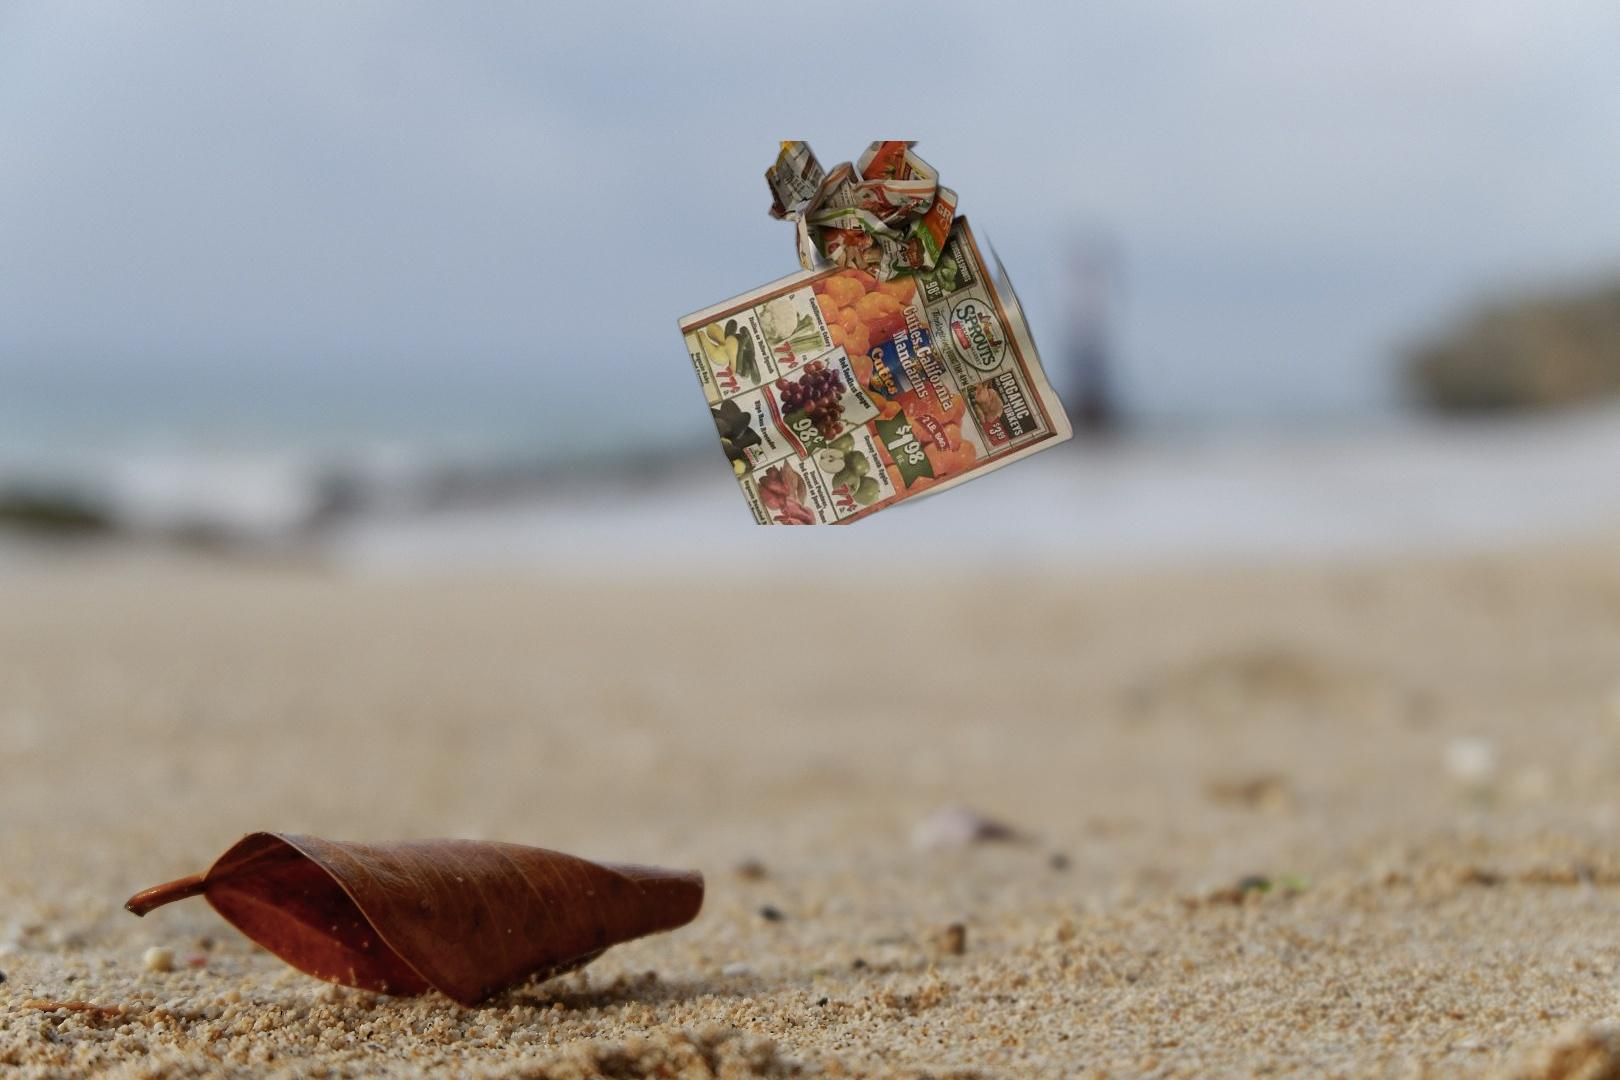paper: (673, 141, 1079, 526)
